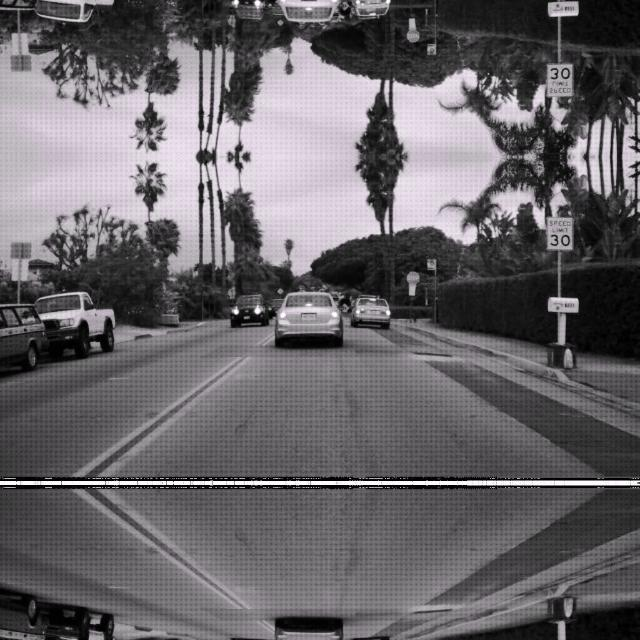stop: (406, 270, 419, 284), (406, 28, 419, 42)
